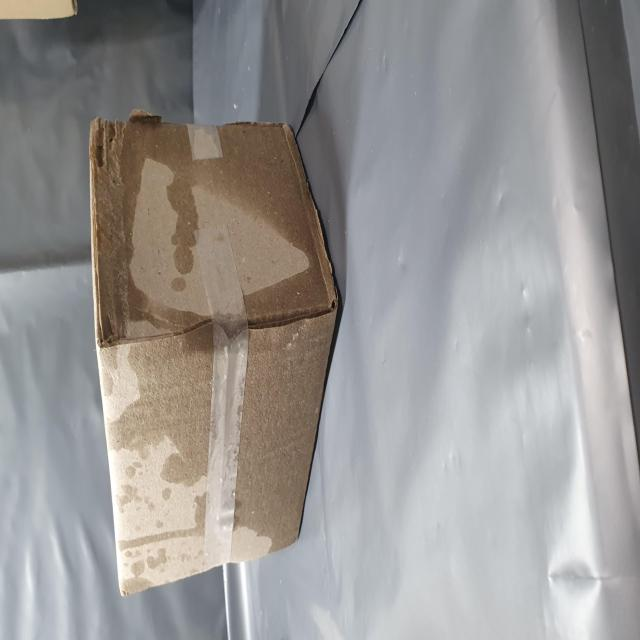wet: (18, 148, 304, 625)
